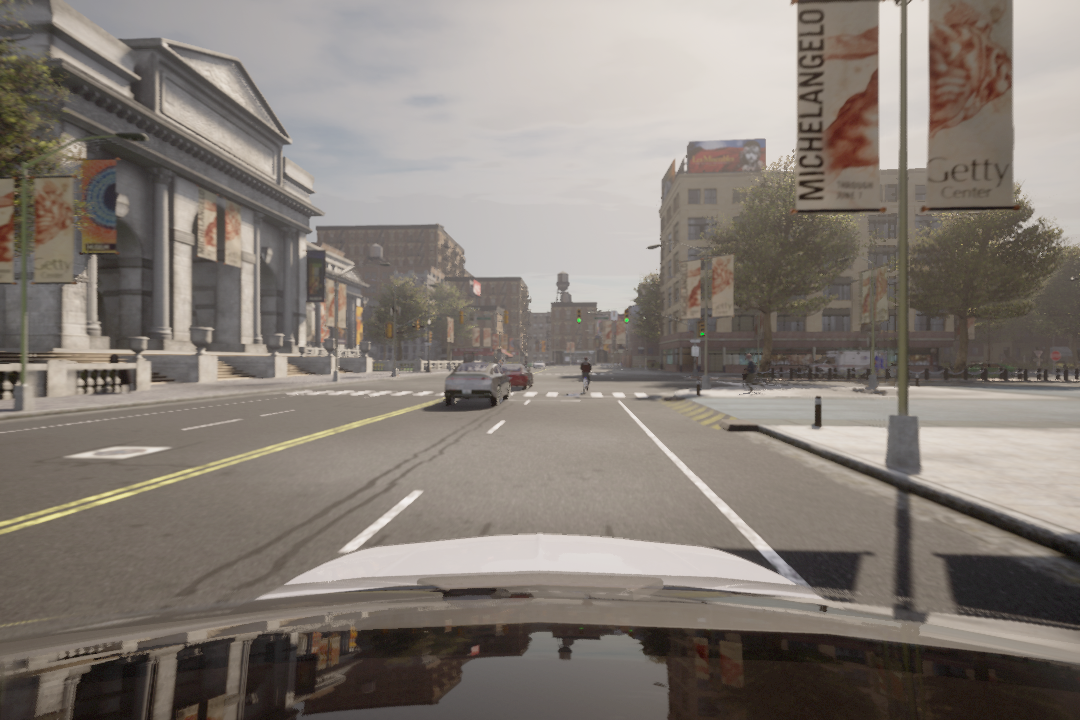TrafficLight: (623, 308, 633, 326), (698, 320, 706, 337), (576, 308, 583, 324)
walkside: (286, 384, 660, 404)
